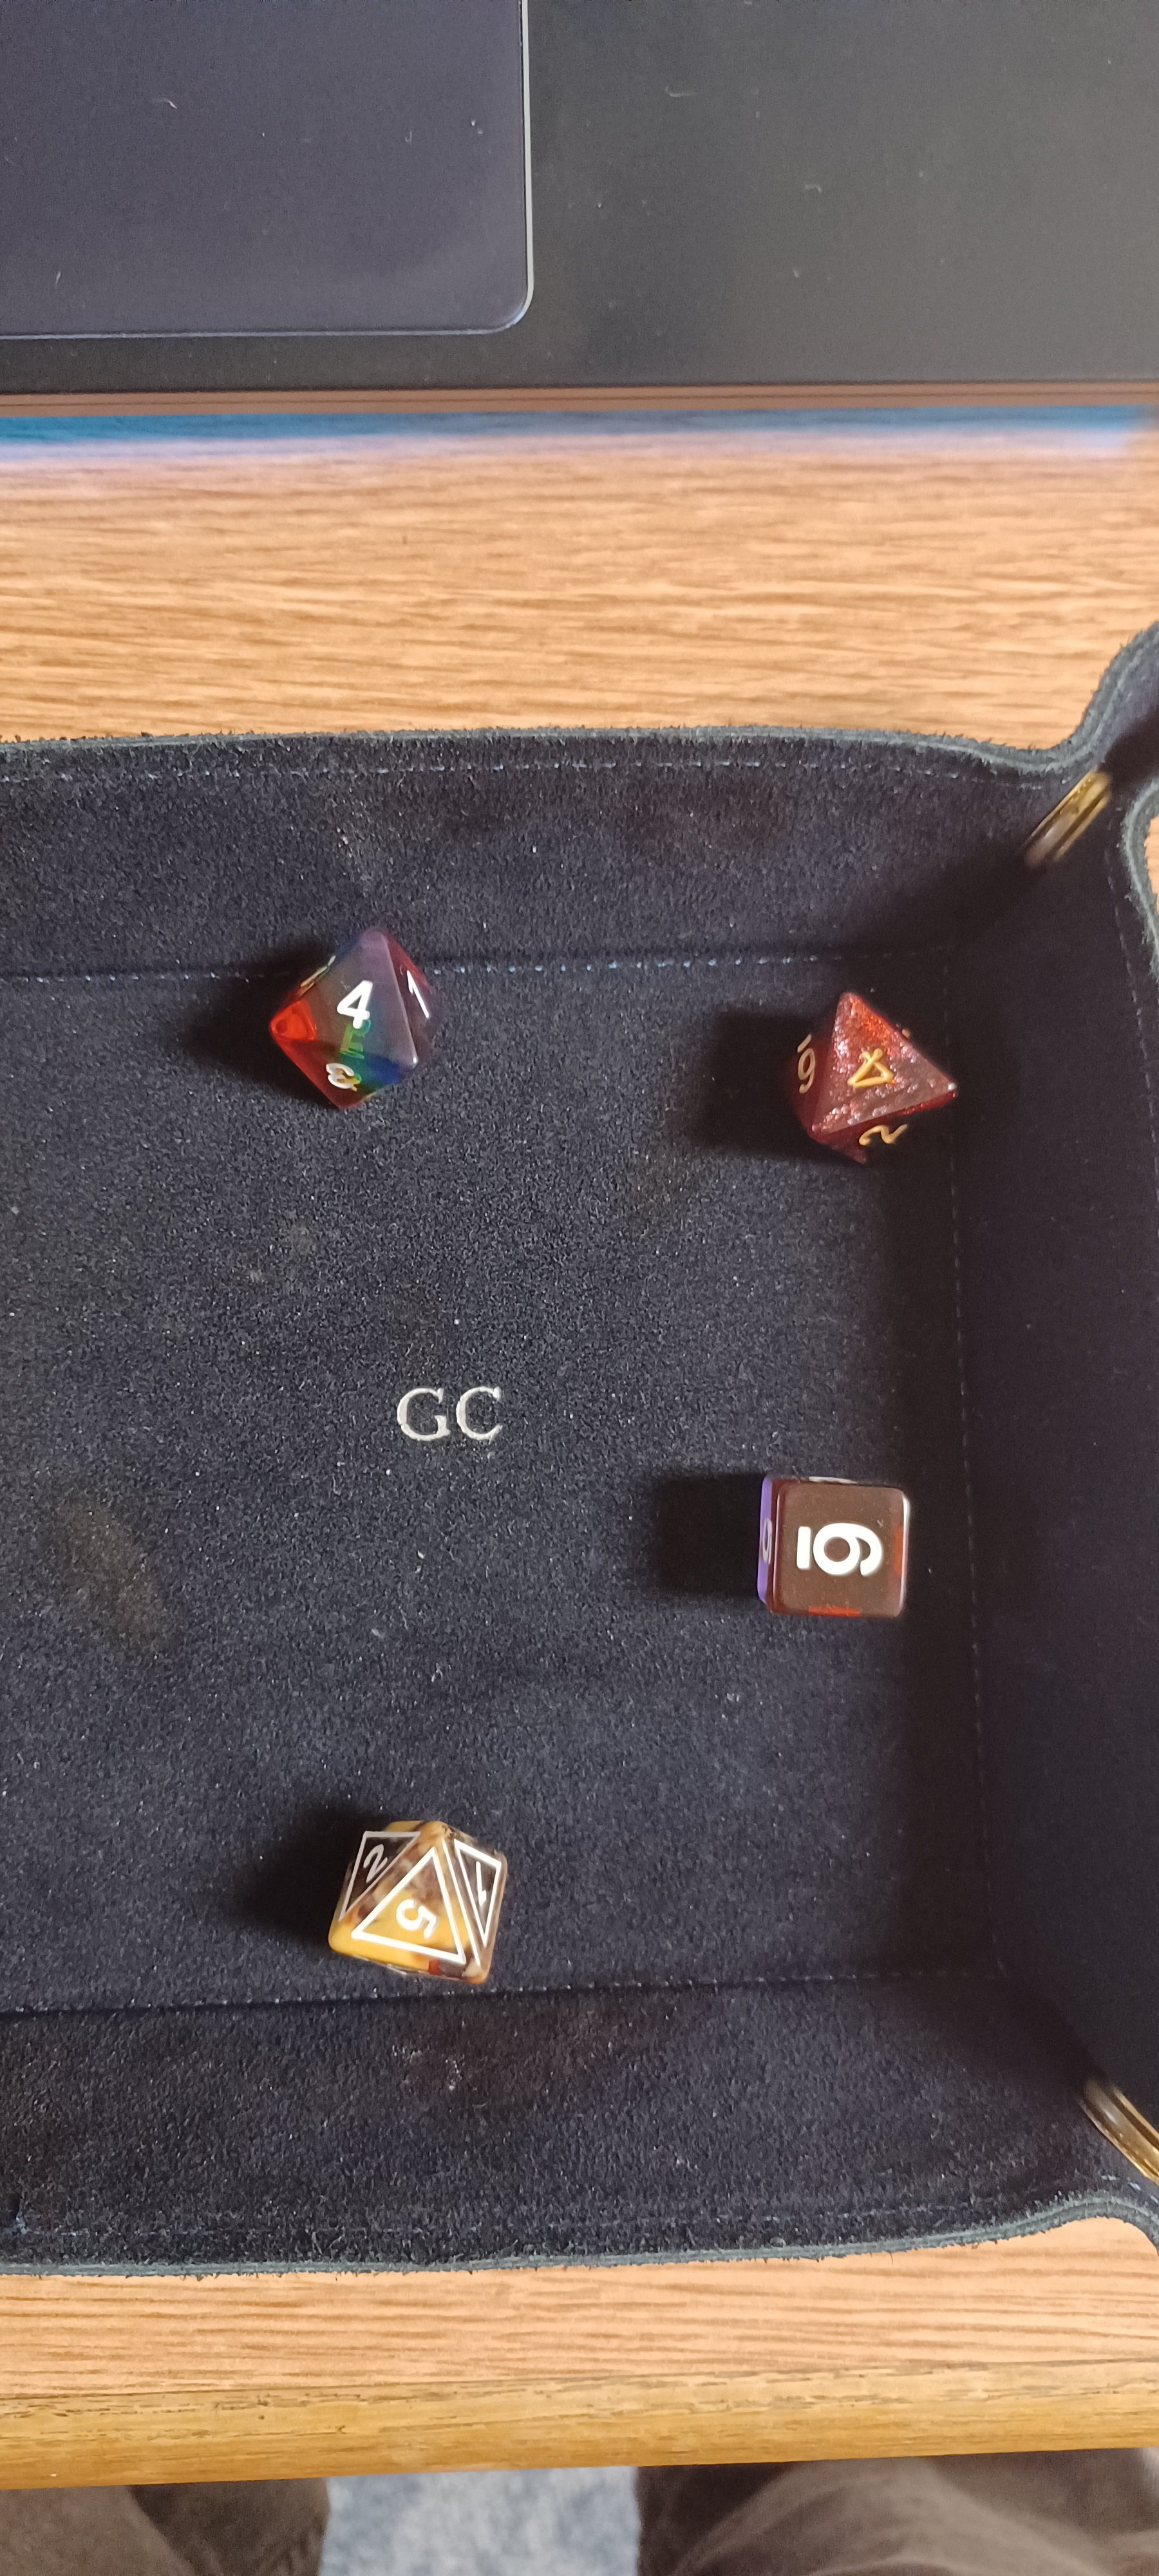five: (297, 1779, 534, 2027)
four: (737, 959, 998, 1183), (256, 892, 478, 1130)
six: (714, 1419, 967, 1663)
